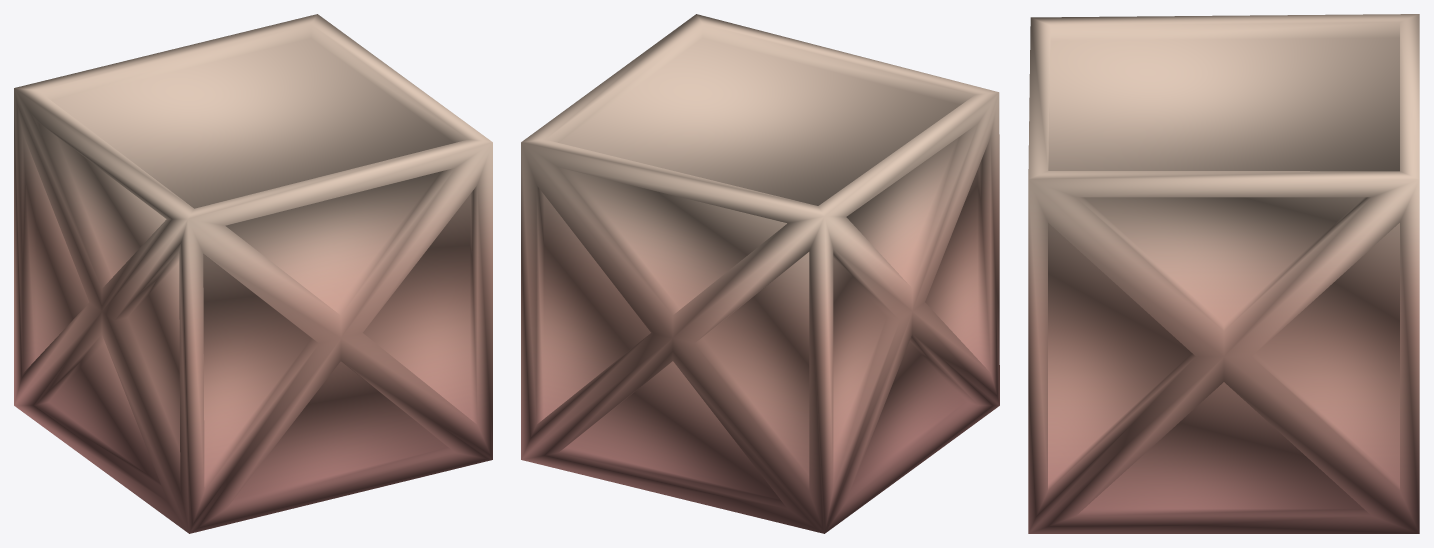
File: Kiste1x1.glb
The picture shows the model from 3 angles, left to right: view 1: azimuth 30°, elevation 25°; view 2: azimuth 150°, elevation 25°; view 3: azimuth 270°, elevation 25°; orthographic projection. The views are drawn at different scales.
Visible parts, largest first — view 1: Kiste1x1; view 2: Kiste1x1; view 3: Kiste1x1.
Boxes of the visible parts, left/top/right/bottom form: Kiste1x1: left=14, top=14, right=492, bottom=533; Kiste1x1: left=521, top=14, right=999, bottom=533; Kiste1x1: left=1028, top=14, right=1419, bottom=533.
Bounding box in the file's own units: 0.5009 × 0.5 × 0.5.
1 material, 1 textured.
